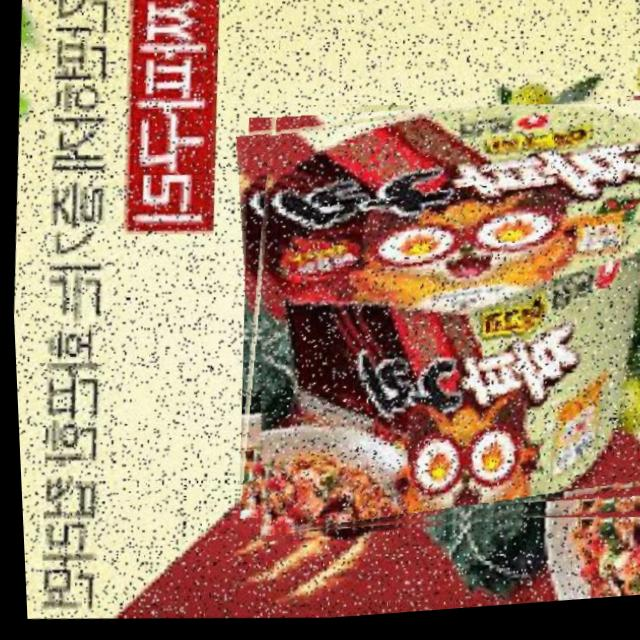Miscellaneous: (212, 85, 640, 565)
